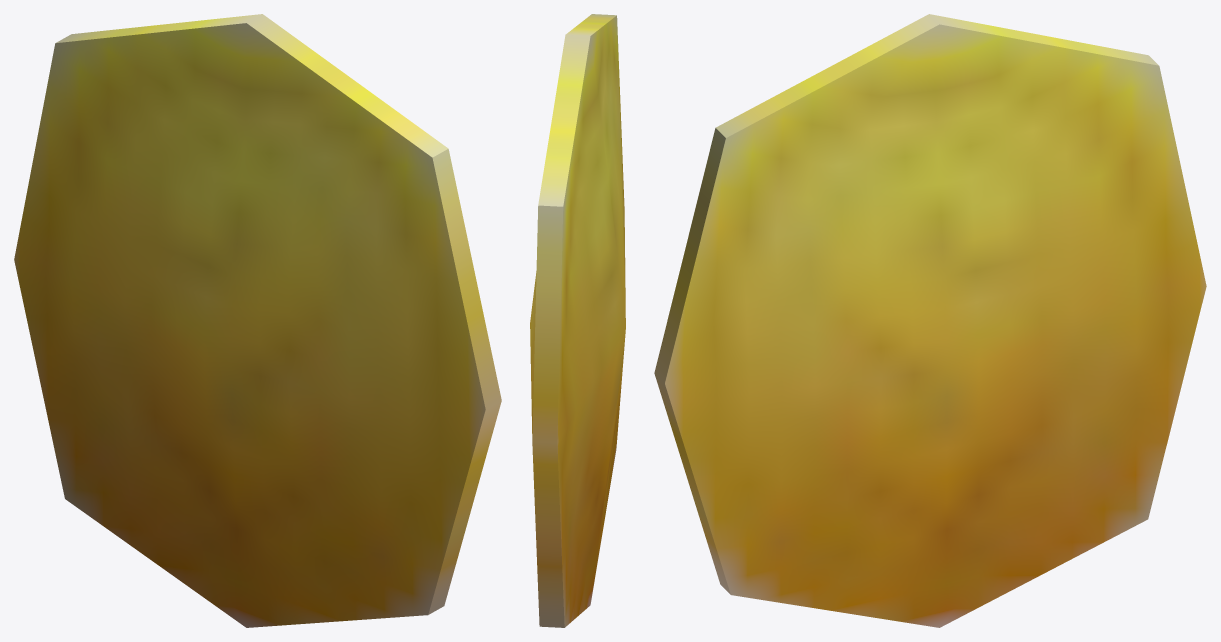
The model's file is Coin@idle.fbx.
The picture shows the model from 3 angles, left to right: view 1: azimuth 30°, elevation 25°; view 2: azimuth 150°, elevation 25°; view 3: azimuth 270°, elevation 25°; orthographic projection. The views are drawn at different scales.
Parts seen in each view (by area): view 1: pPlane1; view 2: pPlane1; view 3: pPlane1.
Part boxes in pixels (box(x1,y1,x2,y2)): pPlane1: box(14, 14, 501, 627); pPlane1: box(530, 14, 625, 627); pPlane1: box(654, 14, 1206, 627).
Bounding box in the file's own units: 0.179 × 0.4672 × 0.3874.
